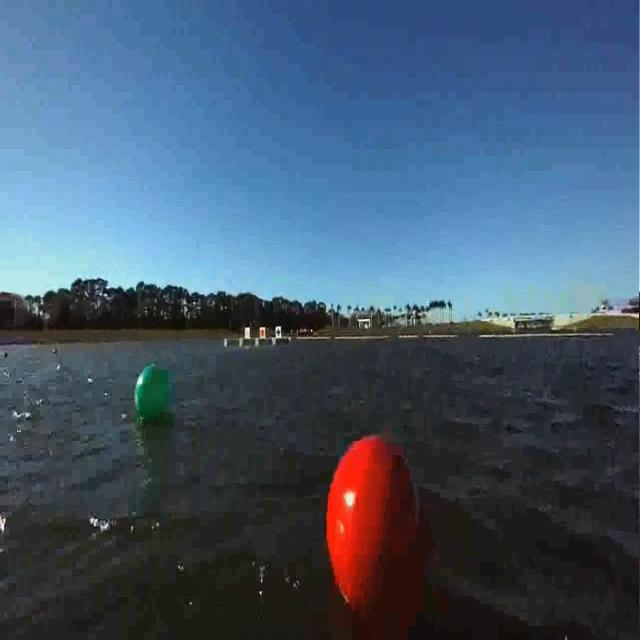green-buoy: (134, 361, 172, 418)
red-buoy: (322, 429, 438, 617)
